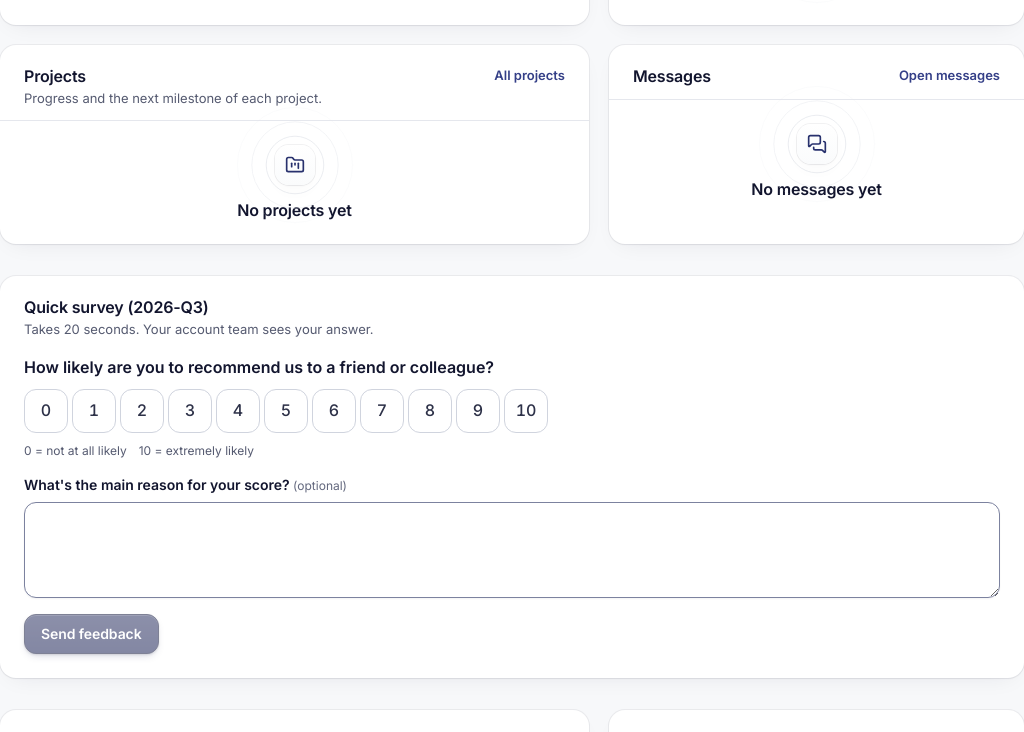
it: Client home and org switcher › asks for the quarterly NPS when due
The width and height of the screenshot is (1024, 732).
(page scrolled)
Step 1. Click the radio button labelled "9" → (478, 411), box [456, 389, 500, 433]
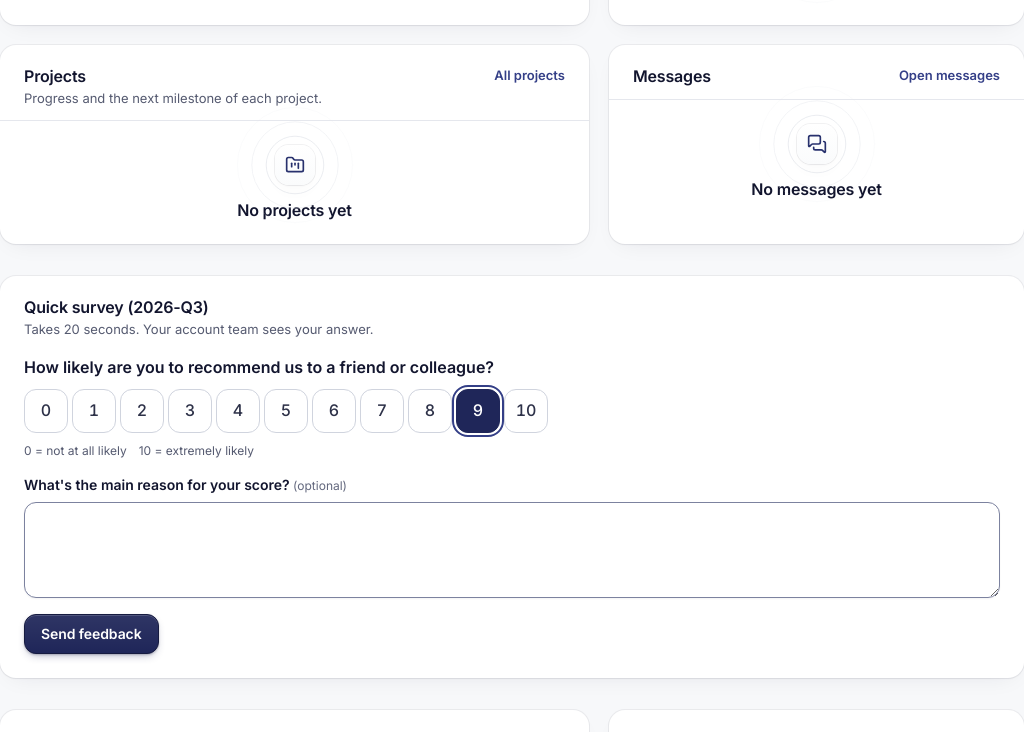
Step 2. Click the button "Send feedback" → (91, 634), box [24, 614, 159, 654]
(page scrolled)
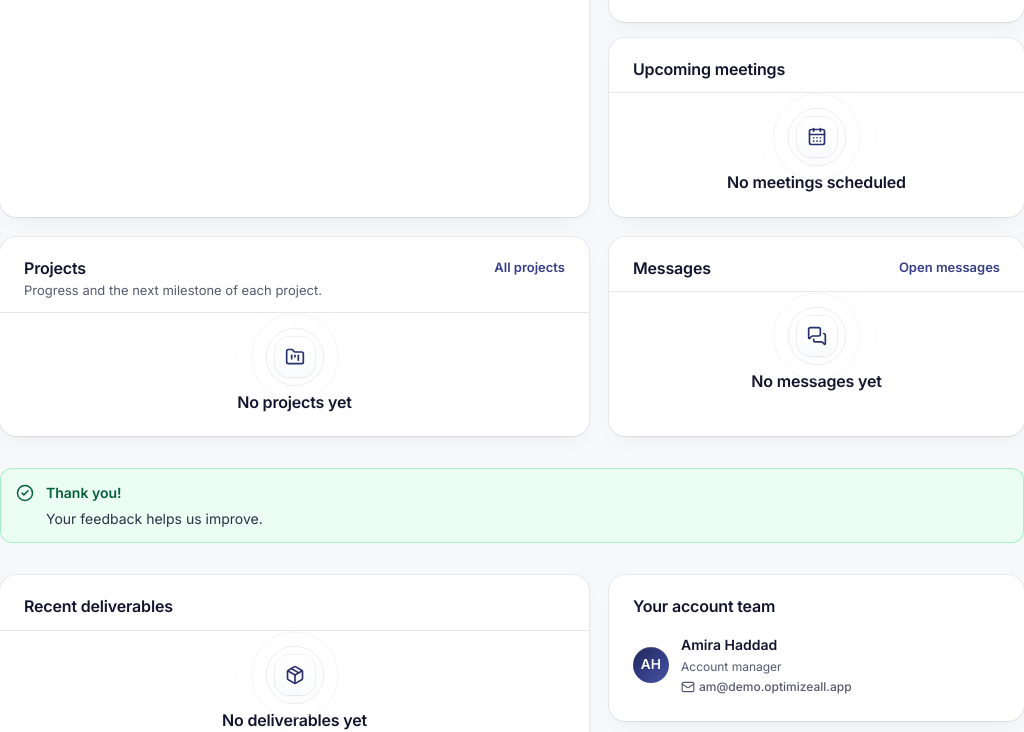
Now the text "Thank you!" is shown, box [46, 484, 122, 501]
